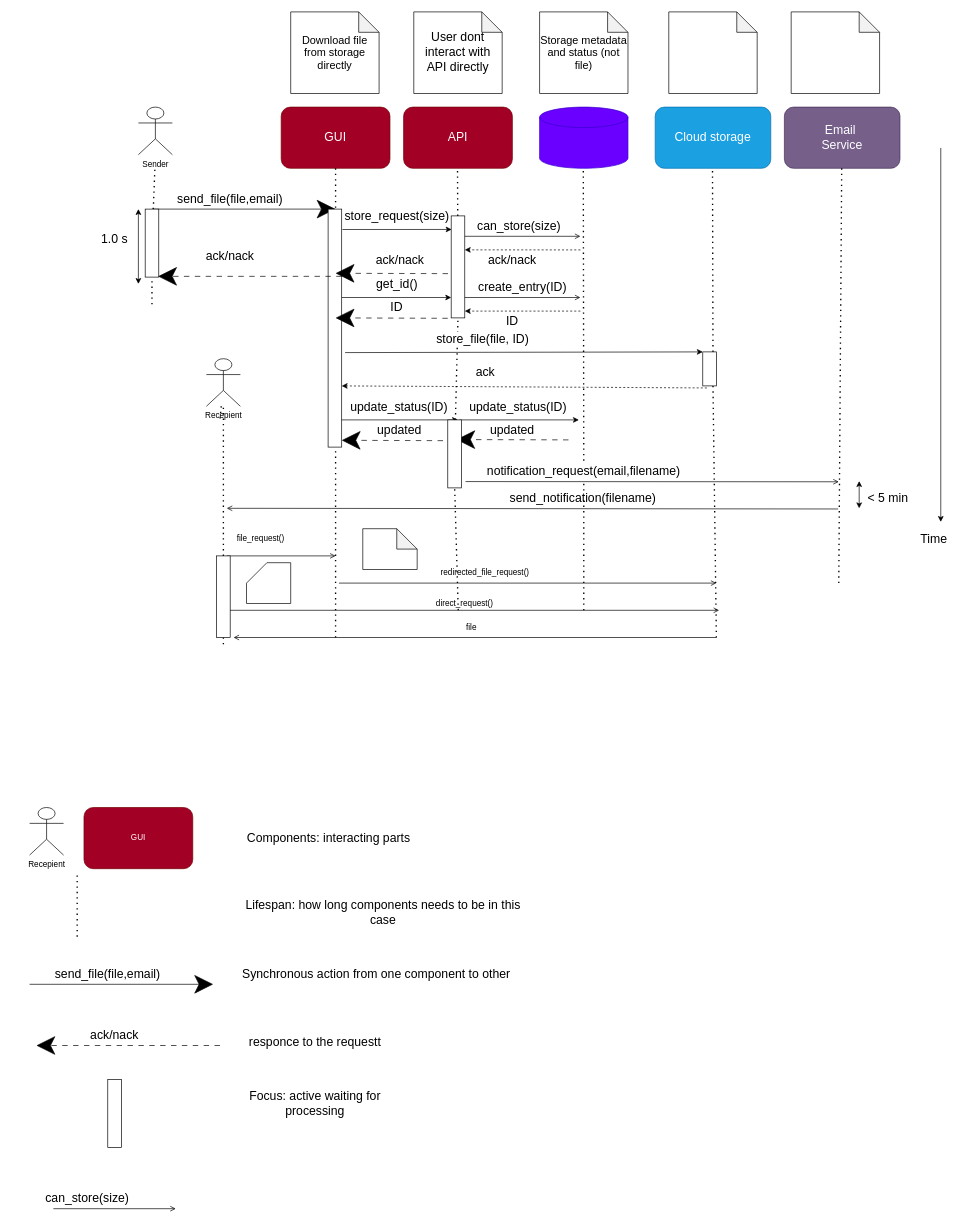
Some shapes in this 966 by 1226 pixel diagram are drawn without their labels. Here are the shapes that lost their labels. From the top down, the box of each, then its label:
(539, 106, 628, 168): Database
(362, 528, 417, 570): All action for redirection
(246, 562, 291, 604): In case when use direct links
